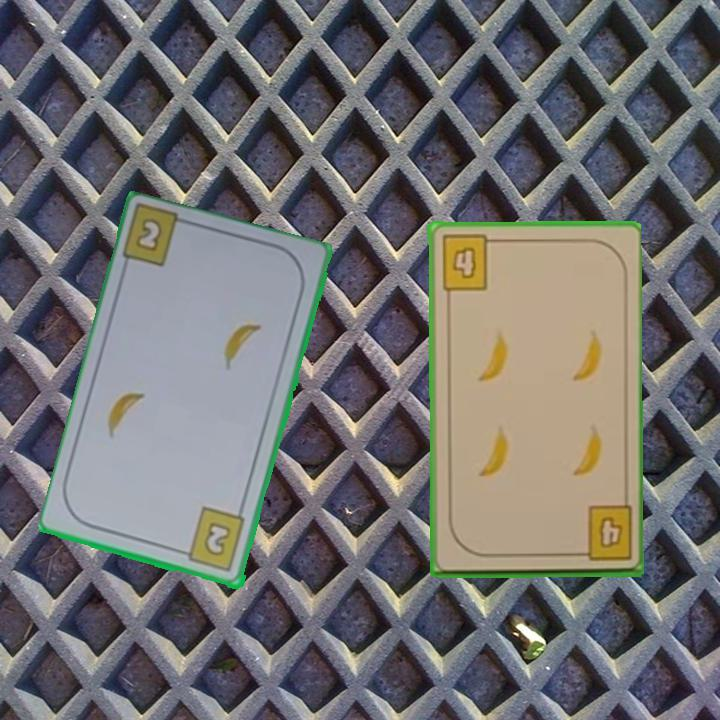2b: (176, 505, 248, 575), (132, 214, 166, 256)
4b: (569, 503, 634, 564), (438, 232, 500, 293)
